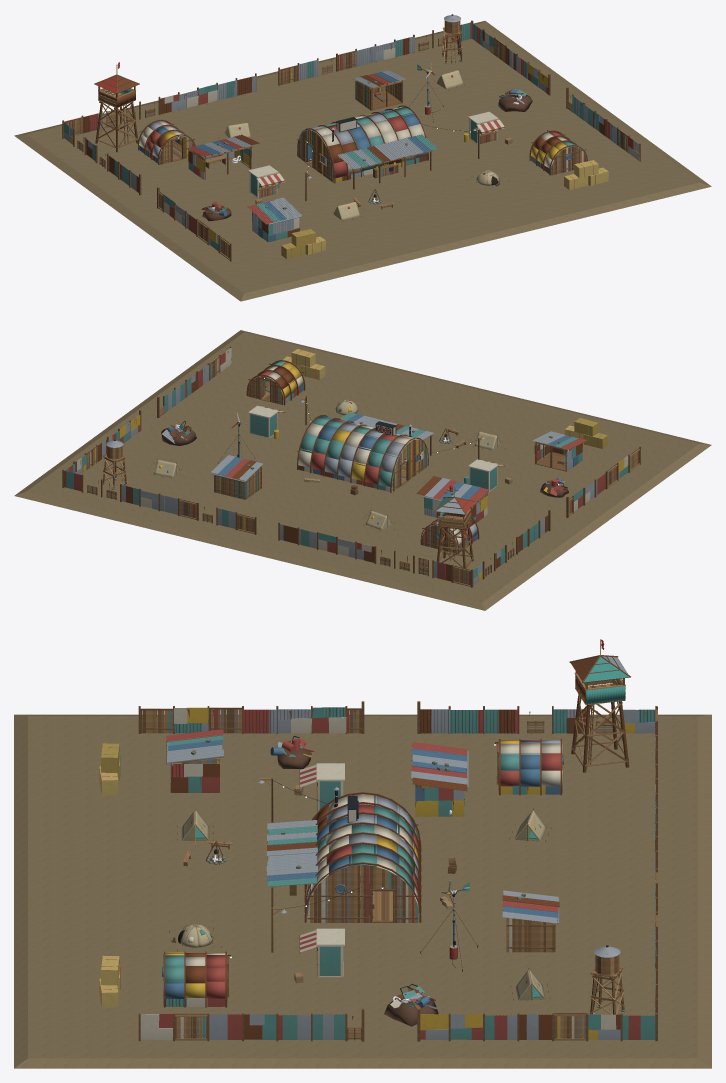
File: large_camp.glb
The picture shows the model from 3 angles, top to bottom: view 1: azimuth 30°, elevation 25°; view 2: azimuth 150°, elevation 25°; view 3: azimuth 270°, elevation 25°; orthographic projection. The views are drawn at different scales.
Parts seen in each view (by area): view 1: large_camp.001; view 2: large_camp.001; view 3: large_camp.001.
Part boxes in pixels (<box>): large_camp.001: <box>14,14,711,301</box>; large_camp.001: <box>14,330,711,610</box>; large_camp.001: <box>14,639,711,1068</box>.
Size of what is drawn, in the model's own units: 60 by 10.05 by 50.
137 materials, 134 textured.
